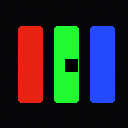1 square: (65, 59, 77, 71)
